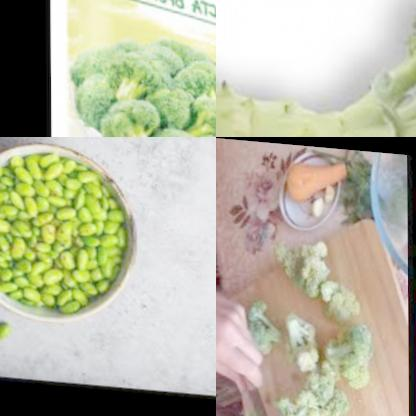beans: (0, 137, 133, 334), (0, 314, 14, 340)
broccoli: (216, 0, 416, 137), (70, 38, 216, 137), (270, 236, 352, 312), (250, 368, 343, 416), (321, 319, 372, 389), (275, 301, 329, 365), (227, 292, 273, 351)
carrot: (283, 150, 350, 202)
garlic: (320, 179, 338, 201), (310, 191, 325, 214)
